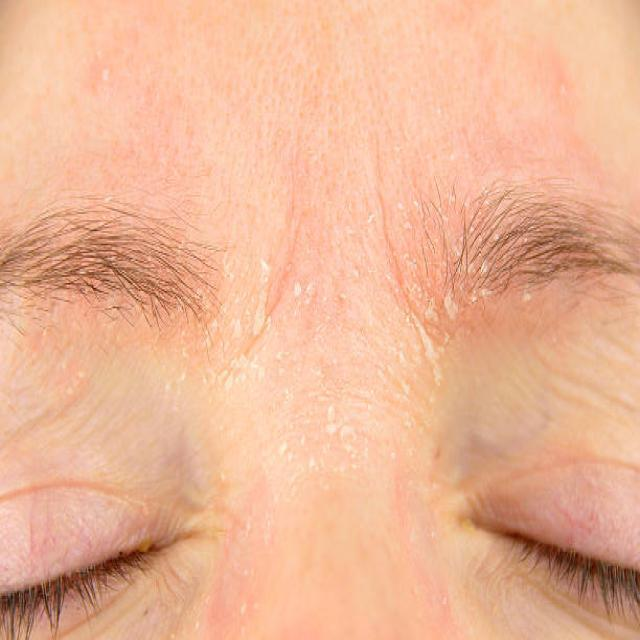dry: (206, 171, 481, 574)
